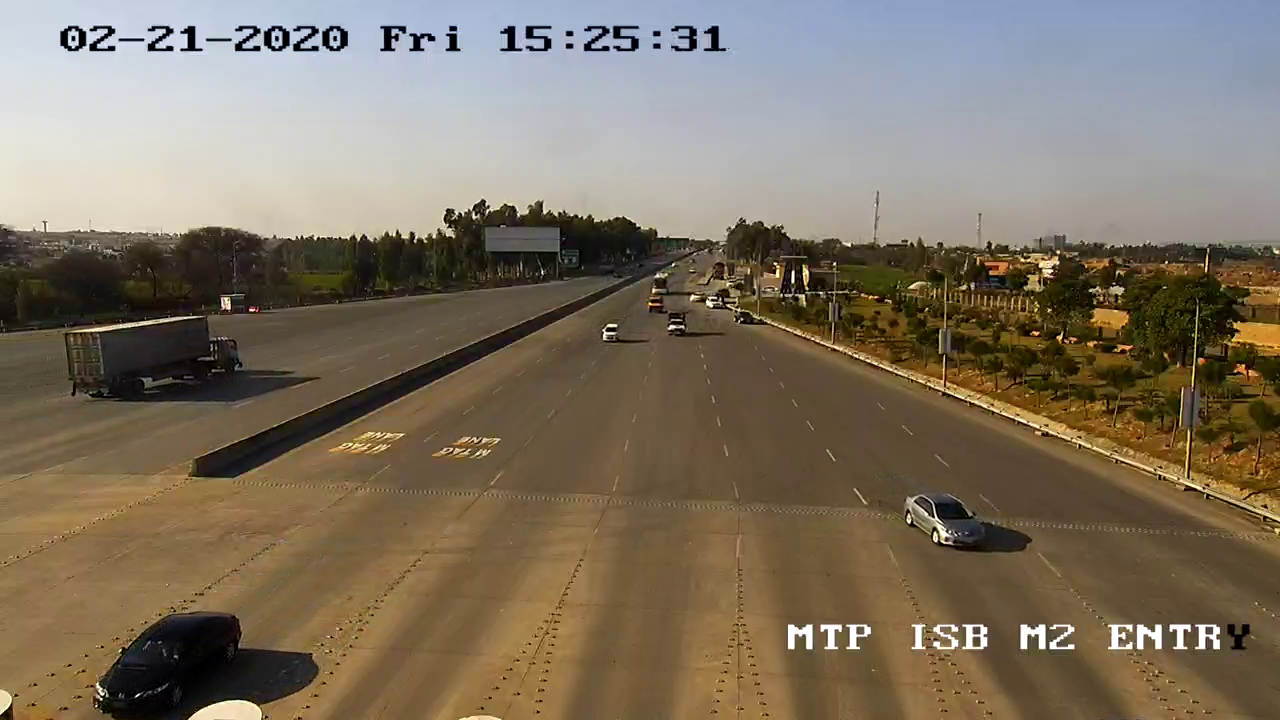f1: (83, 582, 248, 720), (899, 487, 1005, 555)
